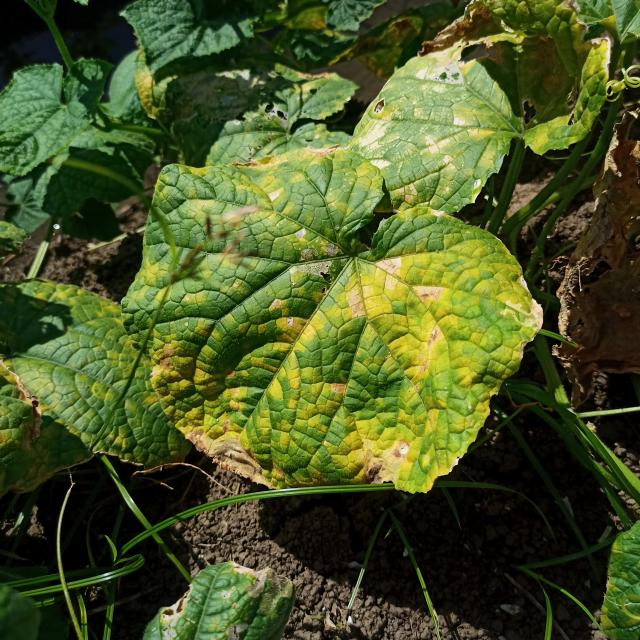disease_cucumber: (122, 143, 536, 493), (363, 41, 530, 210)
